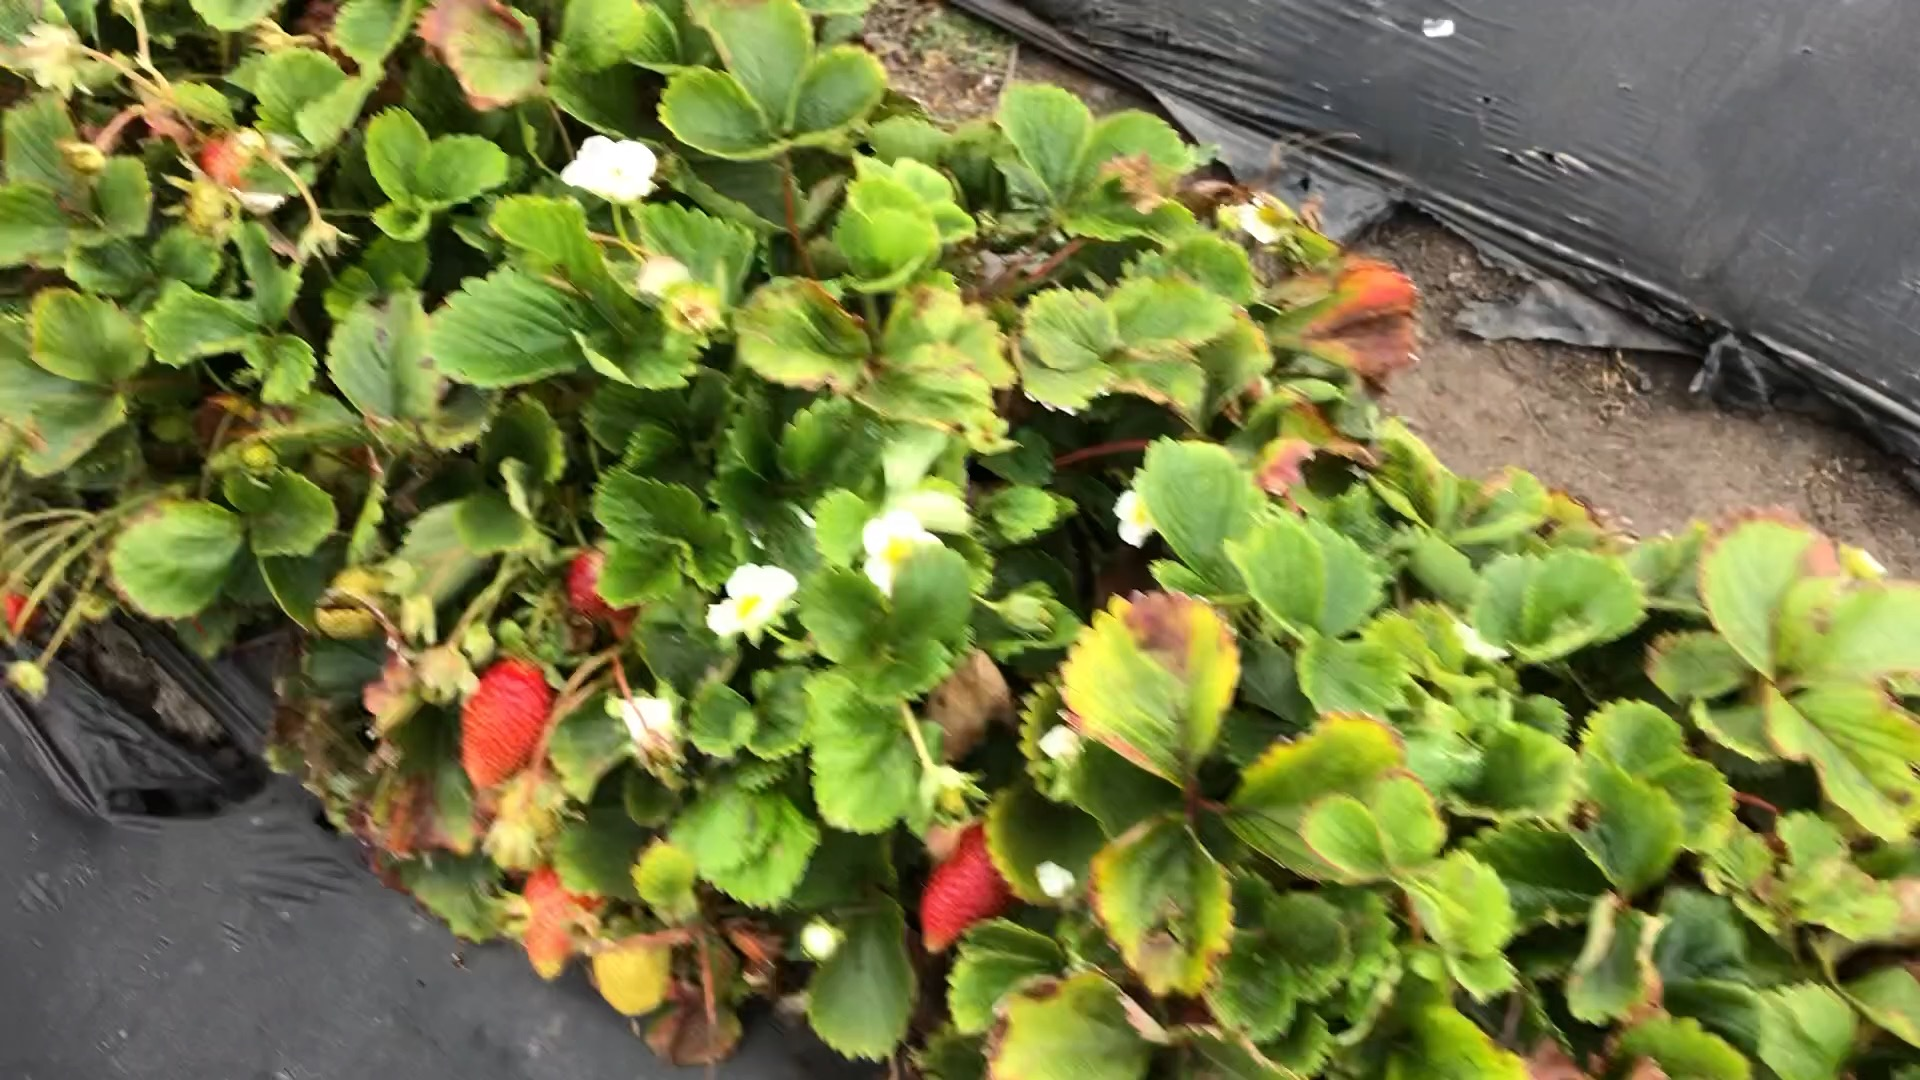ripe_strawberry: (916, 814, 1019, 960), (462, 647, 556, 796), (520, 860, 608, 985), (567, 542, 644, 642)
unripe_strawberry: (593, 911, 678, 1019), (314, 560, 414, 640)
